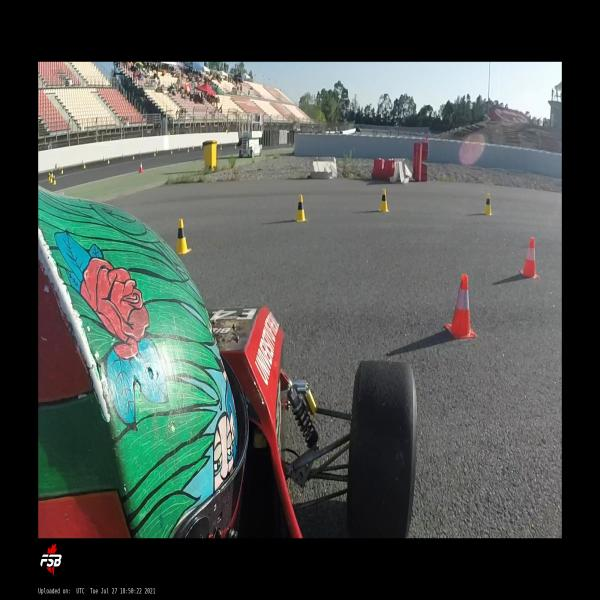orange_cone: (445, 274, 477, 338), (519, 237, 540, 279), (139, 162, 144, 172), (121, 152, 124, 158), (58, 164, 60, 171), (84, 162, 86, 168), (139, 150, 141, 156), (156, 148, 158, 154), (192, 145, 194, 151), (200, 144, 202, 150), (82, 160, 84, 165), (103, 156, 105, 161), (178, 146, 180, 151)
yellow_cone: (173, 218, 192, 254), (295, 194, 307, 222), (378, 188, 390, 212), (482, 193, 493, 216), (49, 173, 54, 183), (52, 175, 57, 185), (51, 169, 54, 177), (48, 172, 51, 180), (61, 167, 64, 174), (154, 150, 156, 157), (108, 158, 110, 164), (84, 162, 86, 168), (170, 149, 172, 155), (220, 144, 222, 150), (132, 154, 134, 159), (56, 163, 58, 168), (188, 147, 189, 153), (235, 143, 236, 149)
